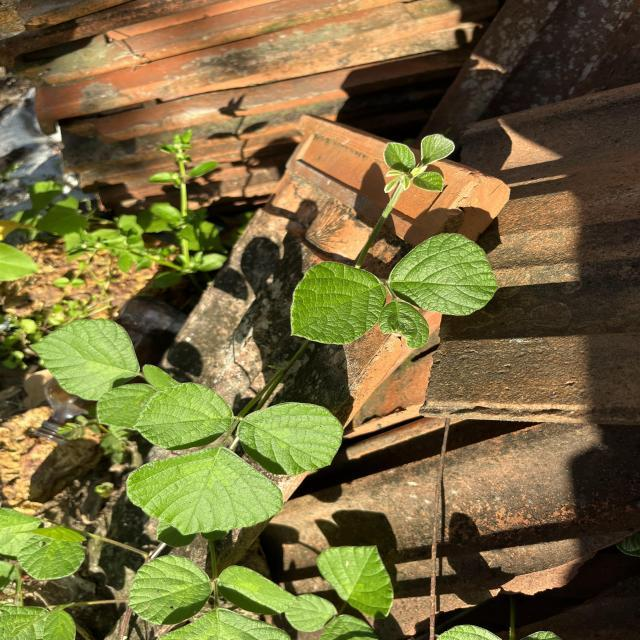Pseudarthria viscida: (124, 380, 346, 538), (288, 232, 501, 350)
